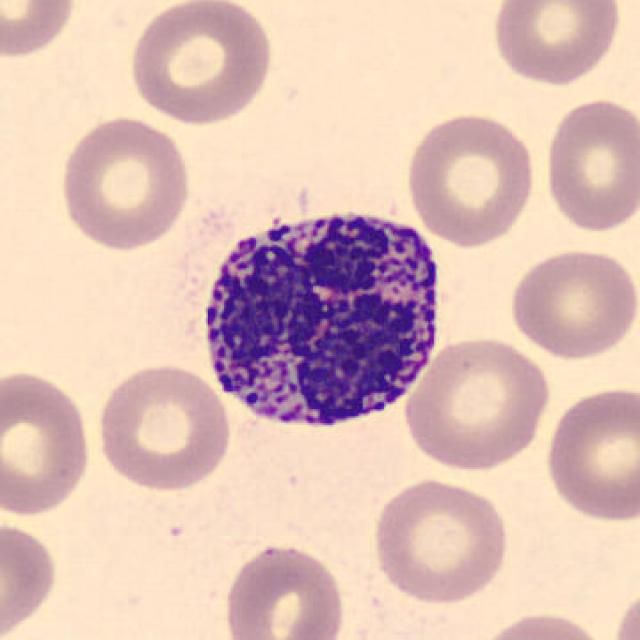Basophil: (187, 188, 453, 440)
RBC: (400, 333, 553, 473), (55, 111, 194, 254), (368, 472, 514, 606), (125, 0, 278, 127), (93, 359, 235, 494), (402, 108, 538, 248), (505, 244, 638, 362), (0, 365, 96, 520), (540, 381, 638, 525), (540, 94, 638, 236), (218, 539, 348, 640), (487, 0, 626, 88), (0, 515, 60, 640), (0, 0, 80, 62), (473, 608, 613, 640), (610, 582, 638, 640)
